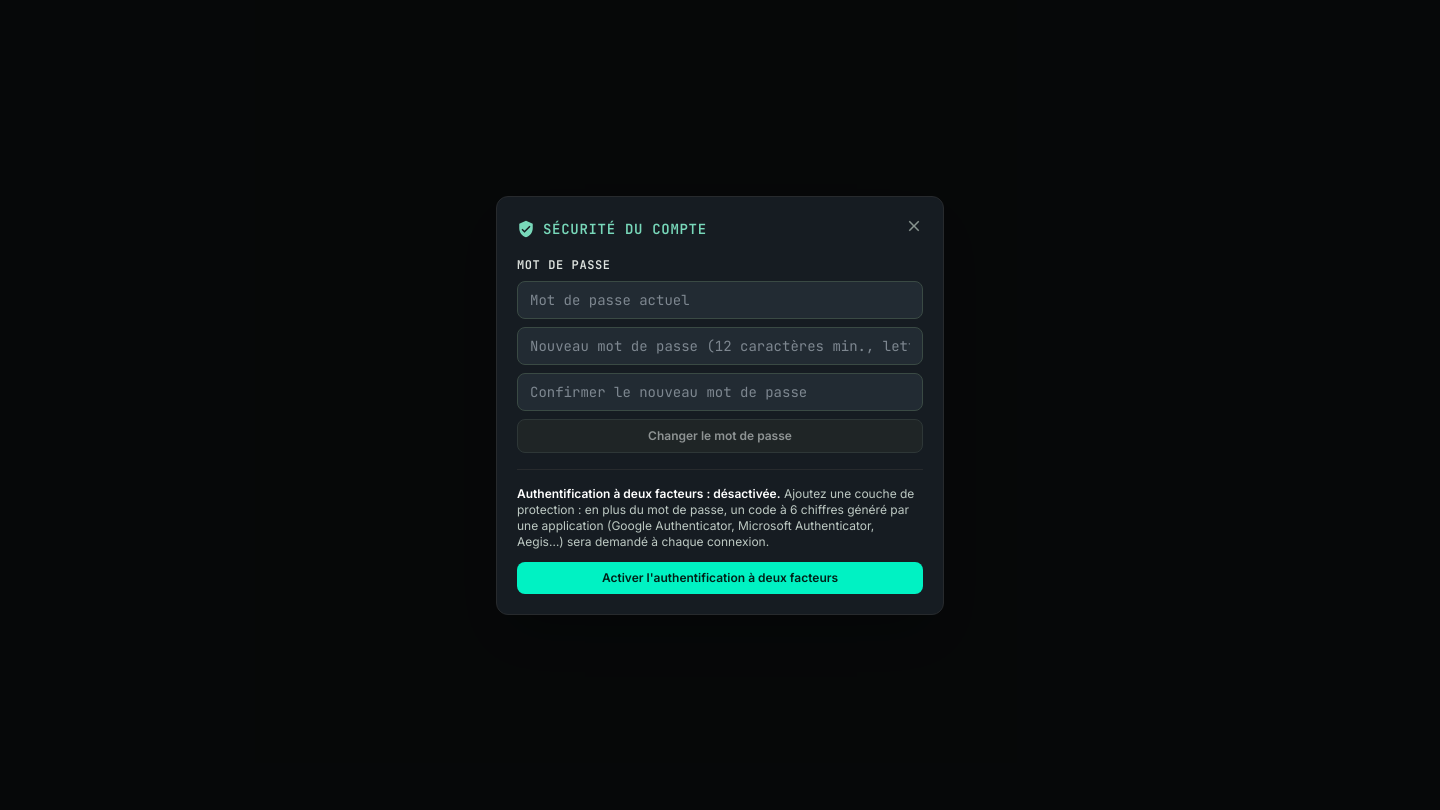
Test case: AccountSecurityModal › changement de mot de passe : validations client puis appel serveur
In the password field named "Ancien mot de passe": (720, 300) [517, 280, 923, 318], type "AncienMotDePasse2026"
In the password field labelled "Nouveau mot de passe": (720, 346) [517, 326, 923, 364], type "court"
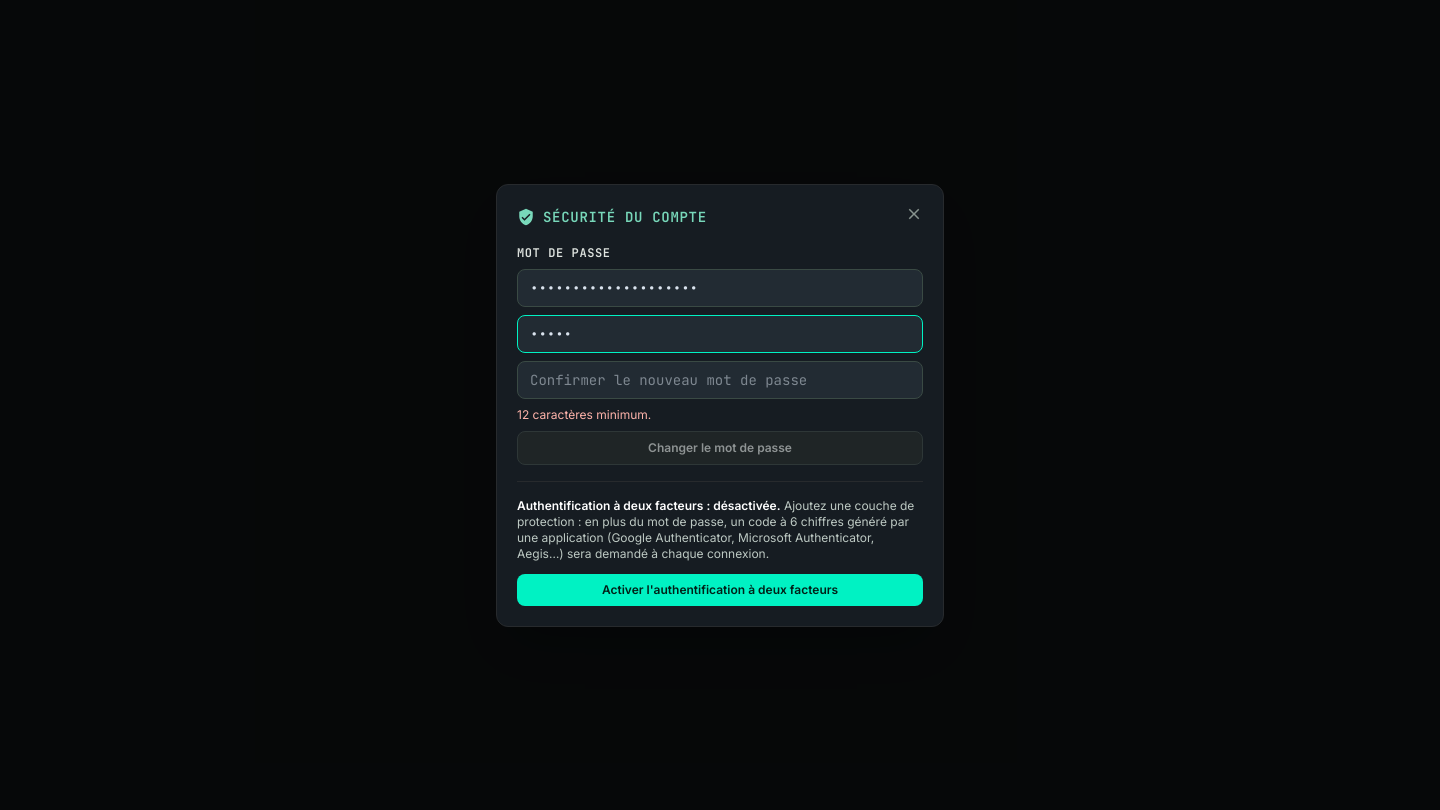
Expected: the button "Changer le mot de passe" is disabled, [517, 430, 923, 464]
Clear the password field named "Nouveau mot de passe": (720, 334) [517, 314, 923, 352]
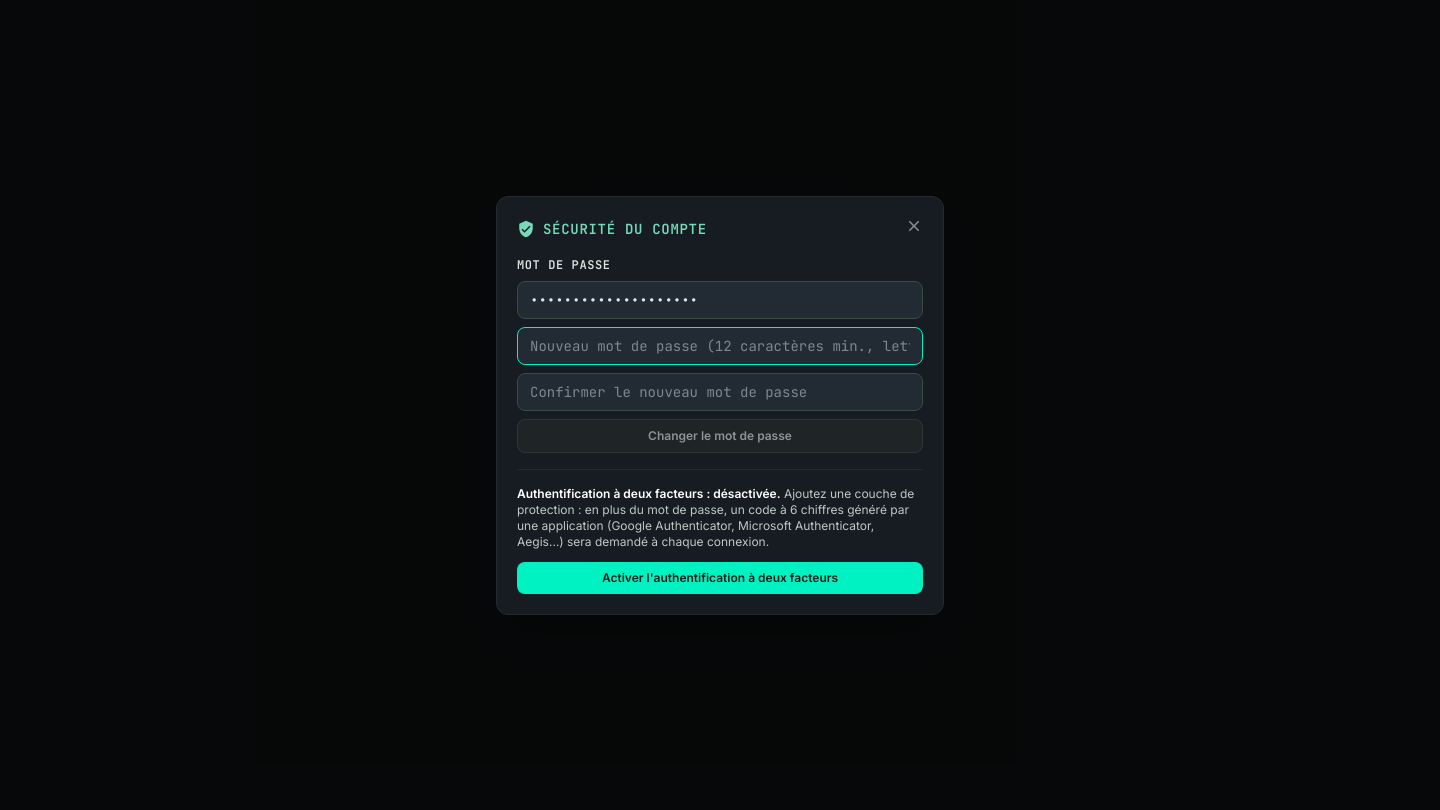
In the password field labelled "Nouveau mot de passe": (720, 346) [517, 326, 923, 364], type "NouveauMotDePasse2027"
In the password field labelled "Confirmer le nouveau mot de passe": (720, 392) [517, 372, 923, 410], type "autre"
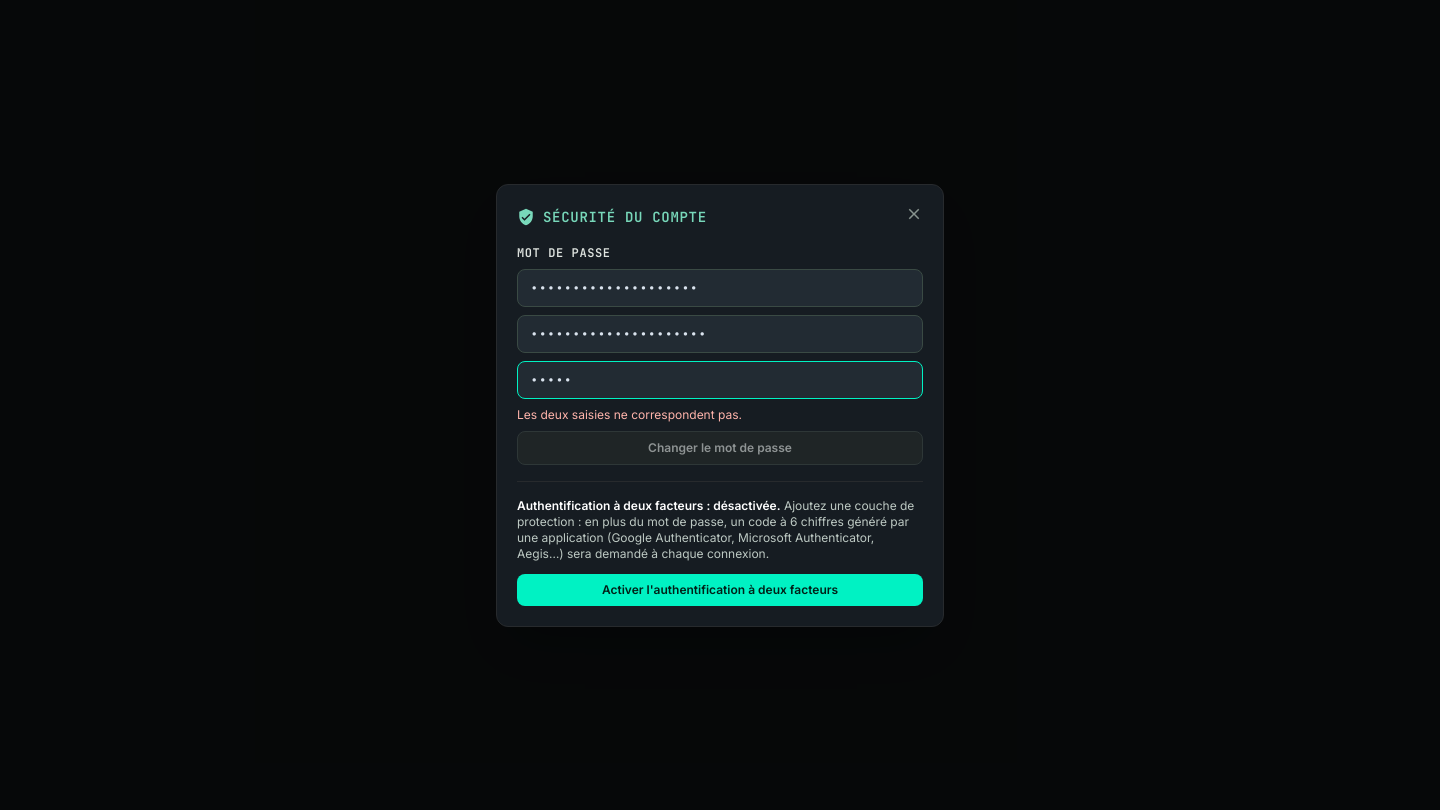
Expected: the button "Changer le mot de passe" is disabled, [517, 430, 923, 464]
Clear the password field named "Confirmer le nouveau mot de passe": (720, 380) [517, 360, 923, 398]
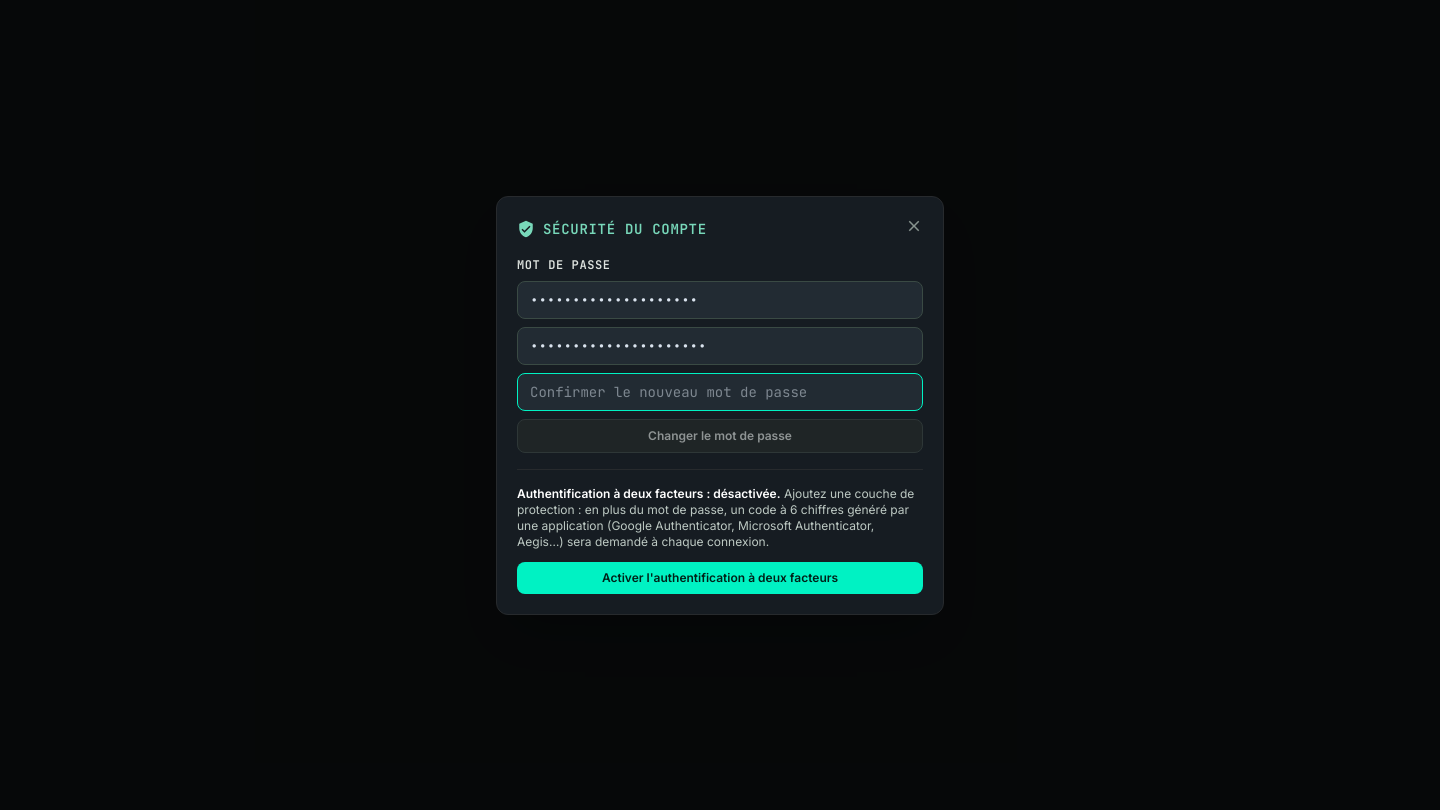
In the password field labelled "Confirmer le nouveau mot de passe": (720, 392) [517, 372, 923, 410], type "NouveauMotDePasse2027"
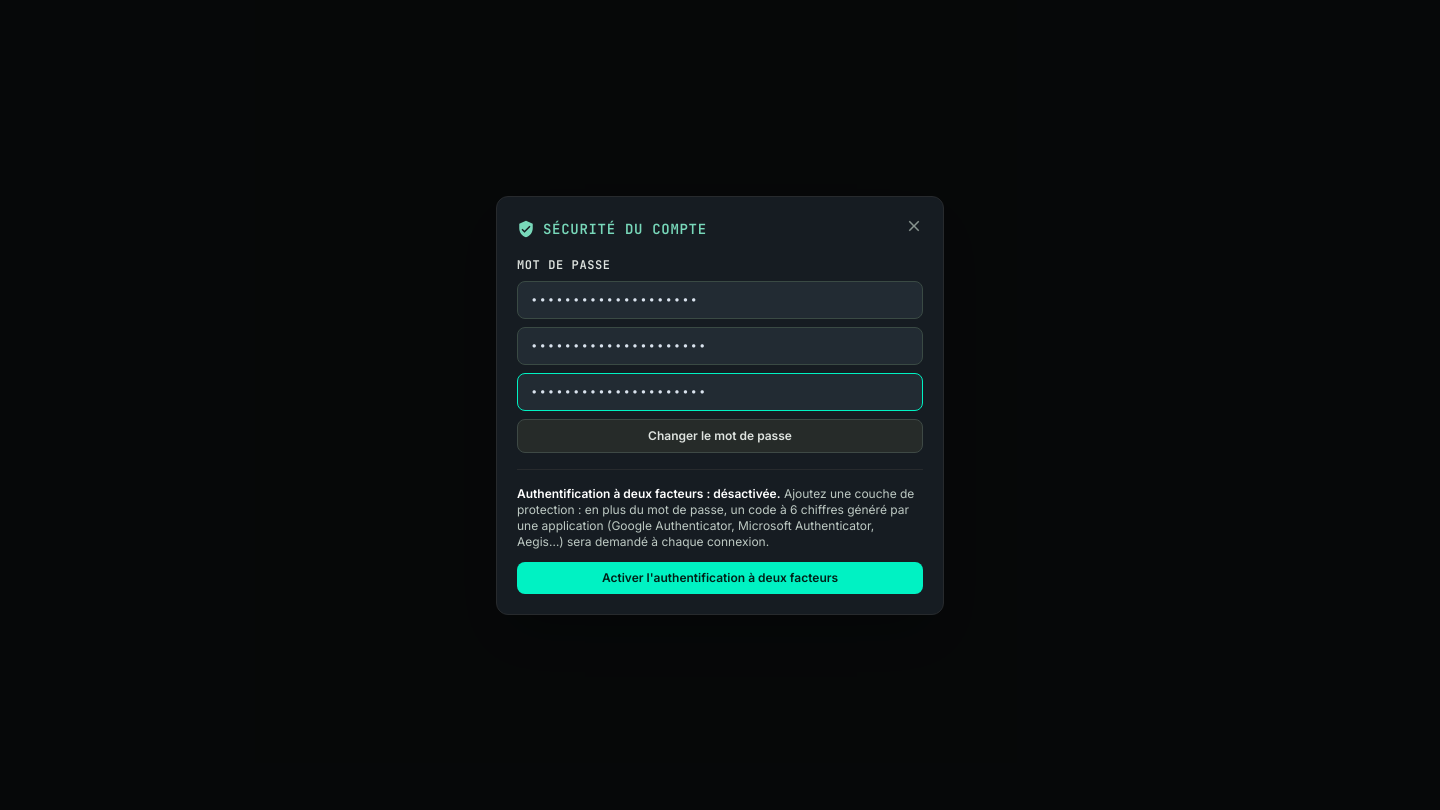
Click the button "Changer le mot de passe": (720, 436) [517, 418, 923, 452]
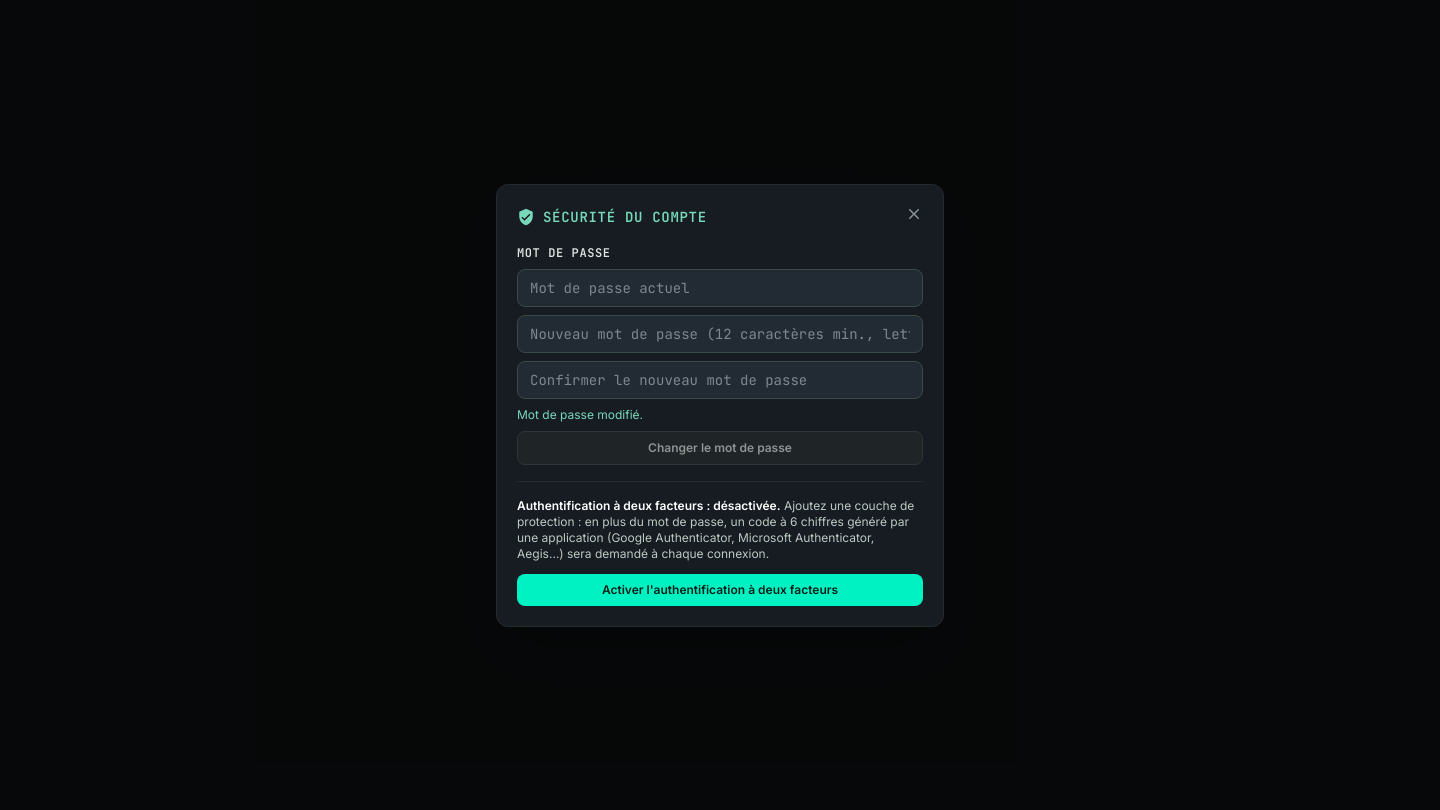
Expected: the text "Mot de passe modifié." is shown, [517, 406, 643, 422]
